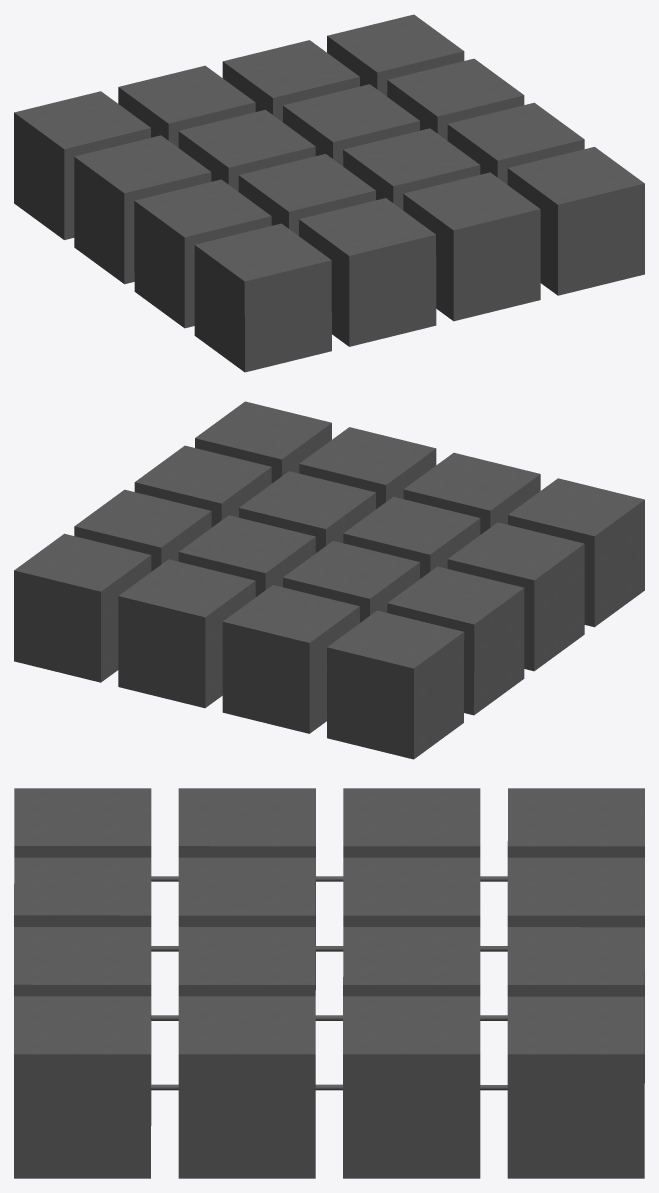
Rendered from 16_Metric_Ton_CO2.glb.
3 renders of one model, top to bottom at view 1: azimuth 30°, elevation 25°; view 2: azimuth 150°, elevation 25°; view 3: azimuth 270°, elevation 25°, orthographic. The views are drawn at different scales.
Parts seen in each view (by area): view 1: 16 Metric Tons CO2 v1; view 2: 16 Metric Tons CO2 v1; view 3: 16 Metric Tons CO2 v1.
Part boxes in pixels (x1,y1,x2,y2): 16 Metric Tons CO2 v1: (14,14,644,372); 16 Metric Tons CO2 v1: (14,401,644,759); 16 Metric Tons CO2 v1: (14,788,644,1178).
Size of the model in its own units: 3.45 by 0.7545 by 3.45.
Materials: 1 (1 with a texture image).
